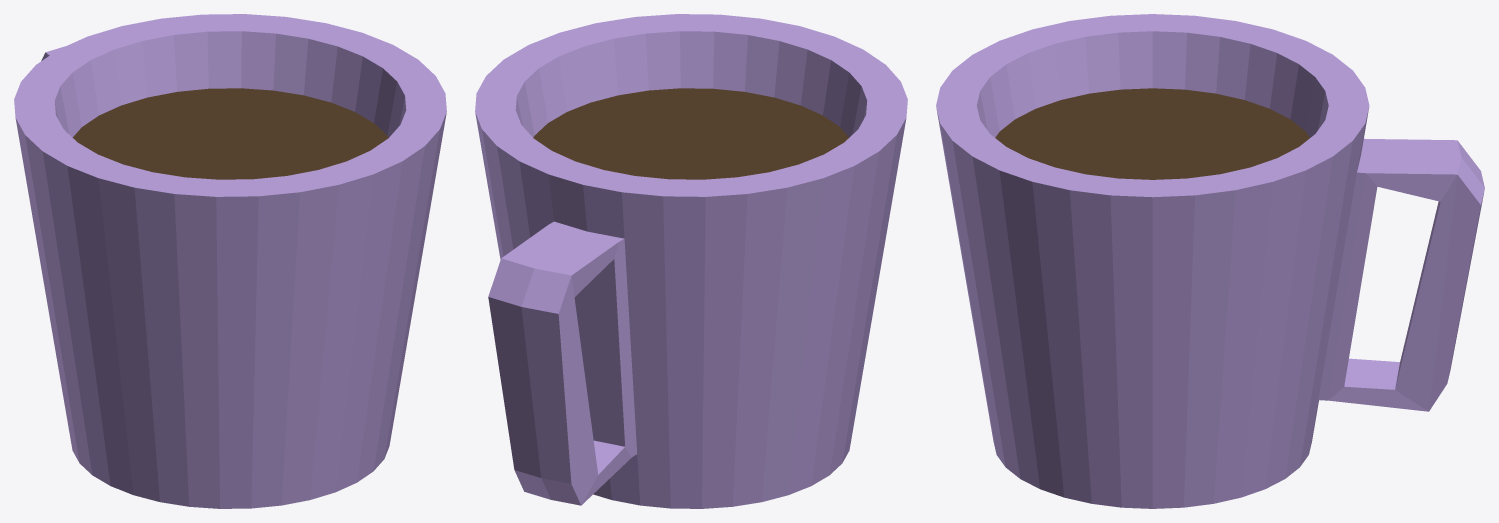
File: CoffeeMug.fbx
3 views of the same model, side by side, from view 1: azimuth 30°, elevation 25°; view 2: azimuth 150°, elevation 25°; view 3: azimuth 270°, elevation 25° (orthographic).
Visible parts, largest first — view 1: Coffee Mug; view 2: Coffee Mug; view 3: Coffee Mug.
Boxes of the visible parts, x1,y1,x2,y2 form: Coffee Mug: (14, 14, 446, 508); Coffee Mug: (475, 14, 907, 508); Coffee Mug: (936, 14, 1484, 508).
Bounding box in the file's own units: 371 × 318 × 470.
